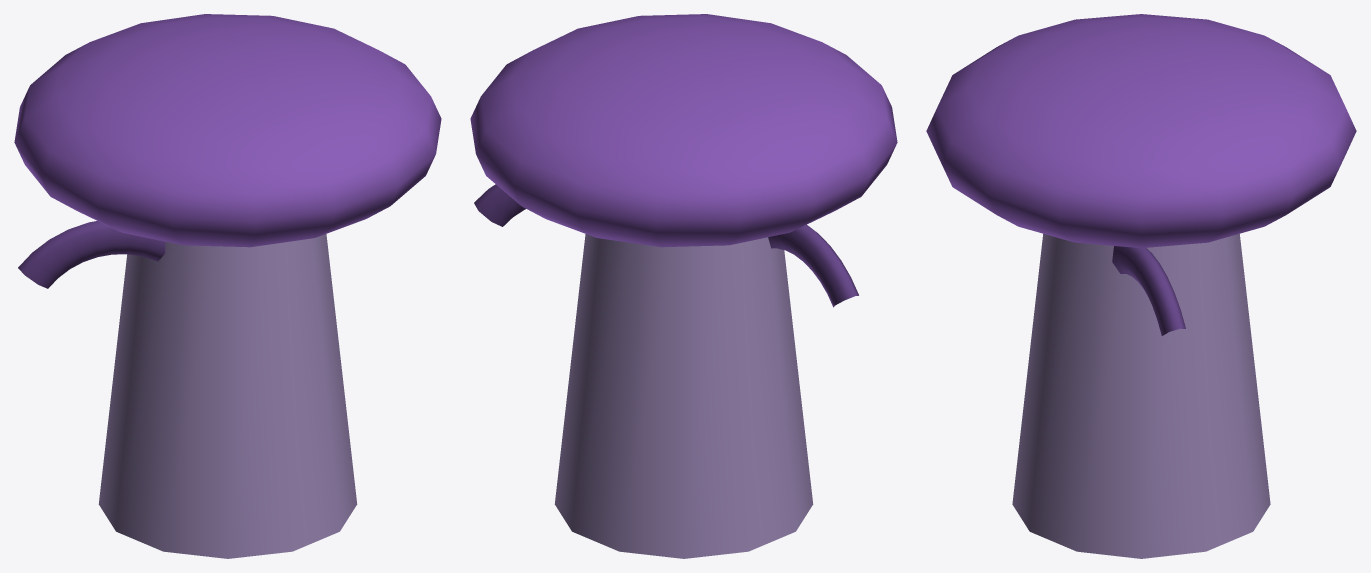
File: mushroom_boss.glb
3 views of the same model, side by side, from view 1: azimuth 30°, elevation 25°; view 2: azimuth 150°, elevation 25°; view 3: azimuth 270°, elevation 25° (orthographic).
Parts seen in each view (by area): view 1: BOSS_mushroom_mooncap_cap, BOSS_mushroom_mooncap_stalk, BOSS_mushroom_mooncap_arm_-1; view 2: BOSS_mushroom_mooncap_cap, BOSS_mushroom_mooncap_stalk, BOSS_mushroom_mooncap_arm_-1, BOSS_mushroom_mooncap_arm_1; view 3: BOSS_mushroom_mooncap_cap, BOSS_mushroom_mooncap_stalk, BOSS_mushroom_mooncap_arm_1.
Boxes of the visible parts, <box> form: BOSS_mushroom_mooncap_cap: <box>14,14,441,247</box>; BOSS_mushroom_mooncap_stalk: <box>98,234,357,558</box>; BOSS_mushroom_mooncap_arm_-1: <box>18,221,165,288</box>; BOSS_mushroom_mooncap_cap: <box>470,14,897,247</box>; BOSS_mushroom_mooncap_stalk: <box>554,234,813,558</box>; BOSS_mushroom_mooncap_arm_-1: <box>768,224,858,307</box>; BOSS_mushroom_mooncap_arm_1: <box>474,184,525,226</box>; BOSS_mushroom_mooncap_cap: <box>926,14,1356,248</box>; BOSS_mushroom_mooncap_stalk: <box>1012,234,1270,558</box>; BOSS_mushroom_mooncap_arm_1: <box>1112,246,1185,335</box>.
Bounding box in the file's own units: 3.58 × 4.02 × 3.5.
